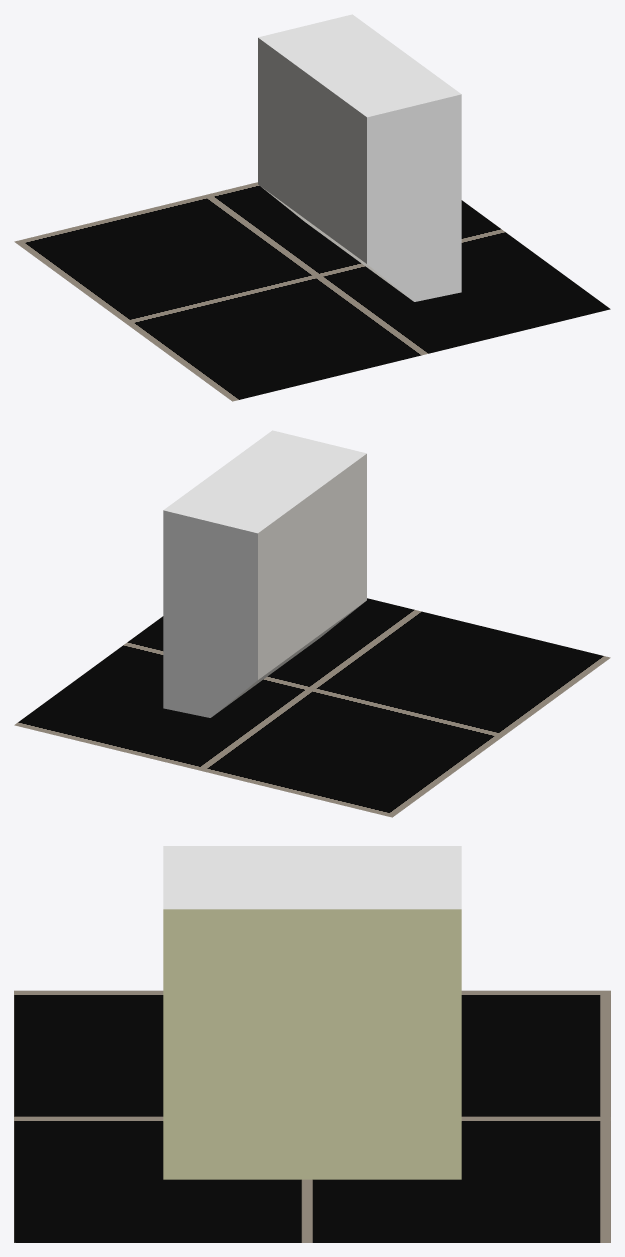
File: Cave_Center_Top_1x1.glb
3 views of the same model, one above another, from view 1: azimuth 30°, elevation 25°; view 2: azimuth 150°, elevation 25°; view 3: azimuth 270°, elevation 25° (orthographic). The views are drawn at different scales.
Visible parts, largest first — view 1: Floor, Cave_Center_Top_1x1; view 2: Floor, Cave_Center_Top_1x1; view 3: Cave_Center_Top_1x1, Floor.
Part boxes in pixels (box(x1,y1,x2,y2)): Floor: box(14, 182, 610, 401); Cave_Center_Top_1x1: box(258, 14, 461, 301); Floor: box(14, 598, 610, 817); Cave_Center_Top_1x1: box(163, 430, 366, 717); Cave_Center_Top_1x1: box(163, 846, 461, 1179); Floor: box(14, 990, 610, 1242).
Size of the model in its own units: 200 by 100 by 200.
4 materials, 1 textured.
